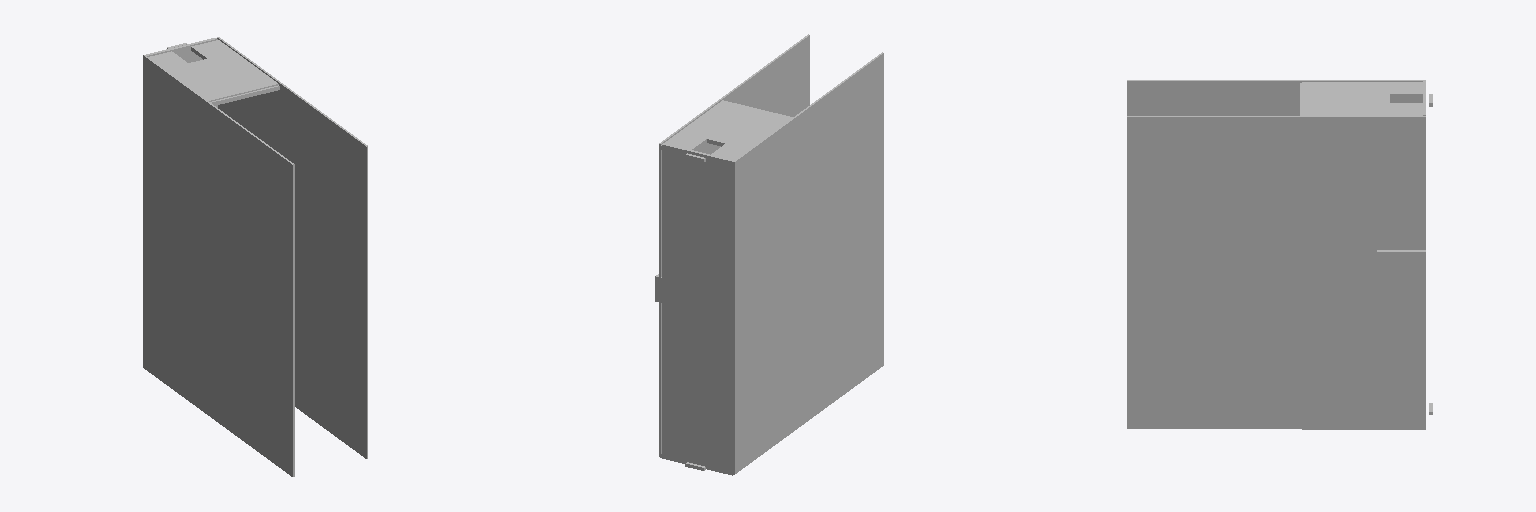
Rendered from room.obj.
3 renders of one model, left to right at view 1: azimuth 30°, elevation 25°; view 2: azimuth 150°, elevation 25°; view 3: azimuth 270°, elevation 25°, orthographic.
Visible parts, largest first — view 1: obj_0; view 2: obj_0, obj_2, obj_5; view 3: obj_0, obj_5.
Part boxes in pixels (left/top/right/bottom): obj_0: left=143, top=37, right=367, bottom=476; obj_0: left=659, top=34, right=883, bottom=475; obj_2: left=662, top=143, right=734, bottom=471; obj_5: left=655, top=274, right=732, bottom=319; obj_0: left=1127, top=80, right=1425, bottom=429; obj_5: left=1377, top=250, right=1425, bottom=276.
Size of the model in its own units: 126 by 475 by 419.